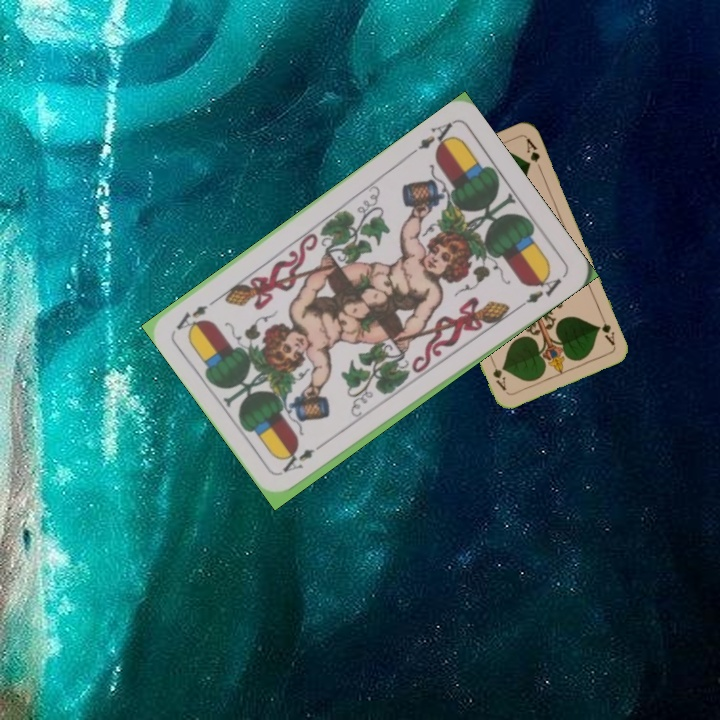EA: (405, 118, 460, 159), (278, 437, 329, 476)
GA: (596, 309, 618, 348)
